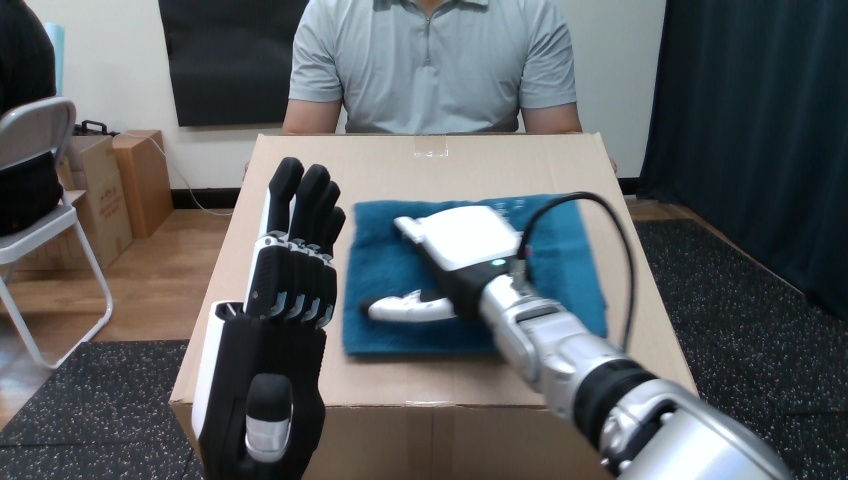left robot hand: (361, 192, 789, 478), (192, 157, 344, 478)
